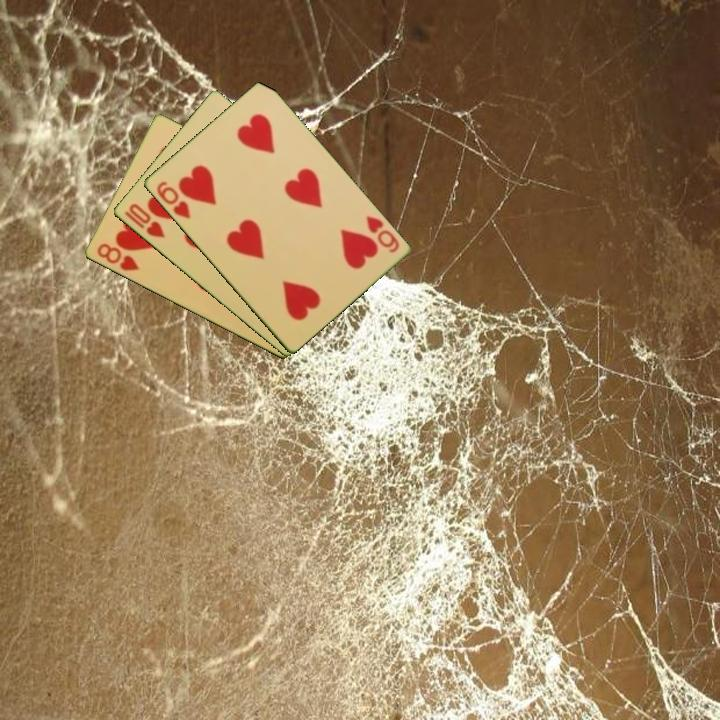10h: (120, 200, 168, 241)
6h: (153, 178, 193, 222), (362, 212, 402, 256)
8h: (93, 240, 142, 274)
